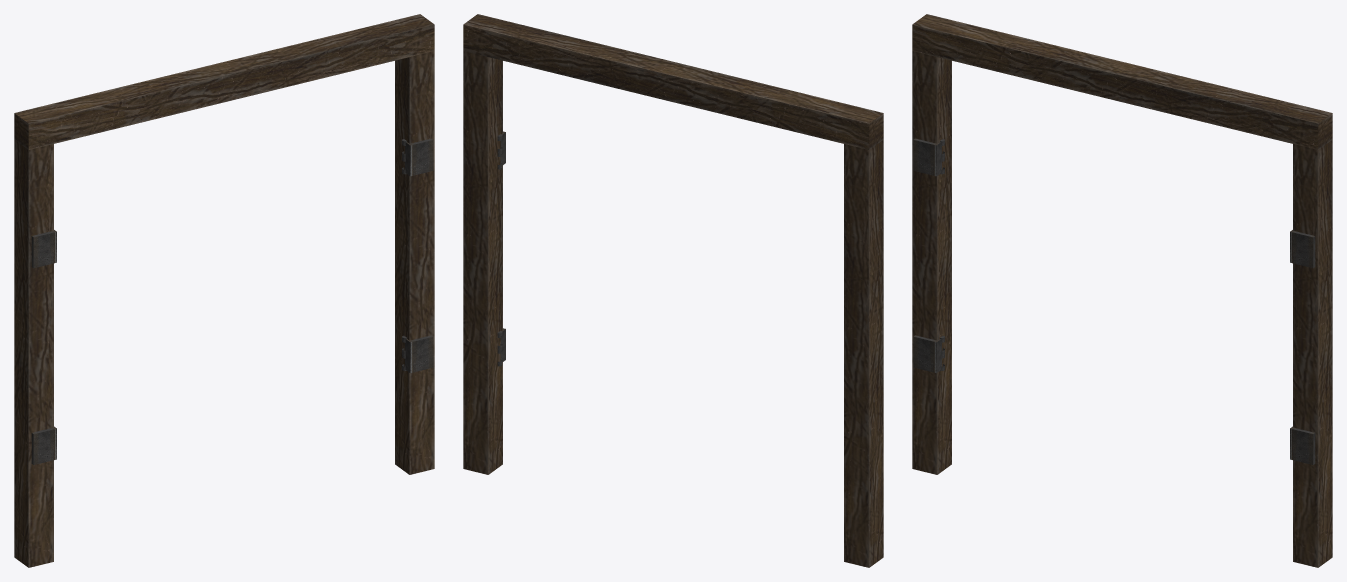
File: Doorframe_small.fbx
3 renders of one model, left to right at view 1: azimuth 30°, elevation 25°; view 2: azimuth 150°, elevation 25°; view 3: azimuth 330°, elevation 25°, orthographic.
Parts seen in each view (by area): view 1: doorframe_small; view 2: doorframe_small; view 3: doorframe_small.
Part boxes in pixels (x1=…): doorframe_small: x1=14, y1=14, x2=434, y2=567; doorframe_small: x1=463, y1=14, x2=883, y2=567; doorframe_small: x1=912, y1=14, x2=1332, y2=567.
Size of the model in its own units: 238 by 249 by 16.67.
